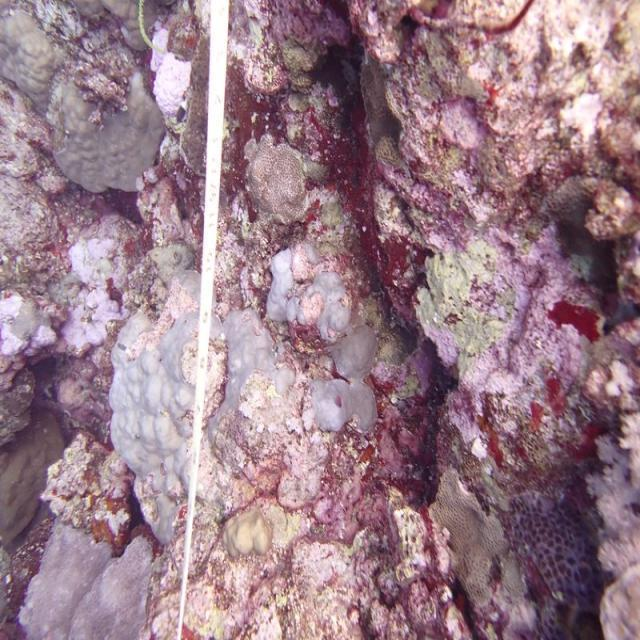Bleached Coral: (0, 212, 128, 390), (131, 27, 207, 151)
